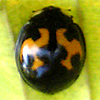Other: (15, 5, 86, 93)
